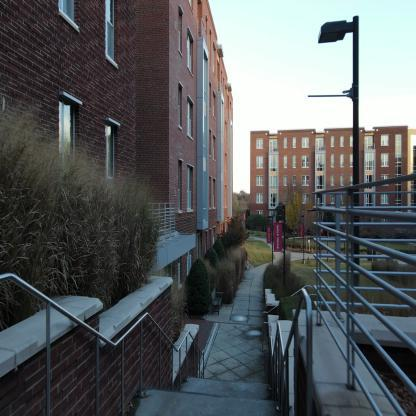Wolf Ridge: (2, 0, 230, 354), (246, 119, 416, 272)
